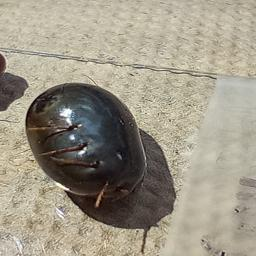Rhipicephalus sanguineus: (25, 84, 145, 208)
